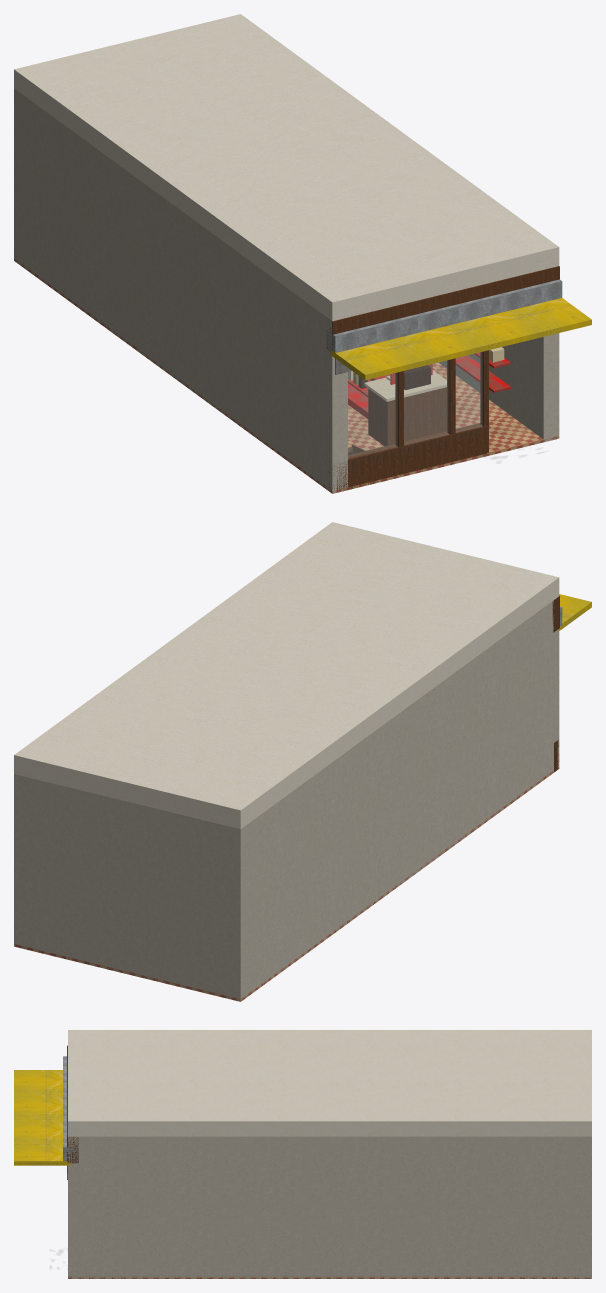
The model's file is shop_bodega.gltf.
3 renders of one model, top to bottom at view 1: azimuth 30°, elevation 25°; view 2: azimuth 150°, elevation 25°; view 3: azimuth 270°, elevation 25°, orthographic. The views are drawn at different scales.
Visible parts, largest first — view 1: F01_OWN_SHOP_BODEGA_retail_bod_plaster-col, F01_OWN_SHOP_BODEGA_retail_bod_plaster_stained-col, F01_OWN_SHOP_BODEGA_retail_bod_wood_dark-col, F01_OWN_SHOP_BODEGA_retail_bod_glassish-col, F01_OWN_SHOP_BODEGA_retail_bod_awning_vinyl-col, F01_OWN_SHOP_BODEGA_retail_bod_linoleum-col, F01_OWN_SHOP_BODEGA_retail_bod_metal-col, F01_OWN_SHOP_BODEGA_retail_bod_safety_orange-col, F01_OWN_SHOP_BODEGA_retail_bod_countertop-col, F01_OWN_SHOP_BODEGA_retail_bod_bakelite-col; view 2: F01_OWN_SHOP_BODEGA_retail_bod_plaster_stained-col, F01_OWN_SHOP_BODEGA_retail_bod_plaster-col, F01_OWN_SHOP_BODEGA_retail_bod_linoleum-col, F01_OWN_SHOP_BODEGA_retail_bod_awning_vinyl-col; view 3: F01_OWN_SHOP_BODEGA_retail_bod_plaster_stained-col, F01_OWN_SHOP_BODEGA_retail_bod_plaster-col, F01_OWN_SHOP_BODEGA_retail_bod_awning_vinyl-col, F01_OWN_SHOP_BODEGA_retail_bod_linoleum-col, F01_OWN_SHOP_BODEGA_retail_bod_metal-col, F01_OWN_SHOP_BODEGA_retail_bod_wood_dark-col.
Boxes of the visible parts, x1,y1,x2,y2 form: F01_OWN_SHOP_BODEGA_retail_bod_plaster-col: (14, 14, 559, 321); F01_OWN_SHOP_BODEGA_retail_bod_plaster_stained-col: (14, 88, 559, 493); F01_OWN_SHOP_BODEGA_retail_bod_wood_dark-col: (327, 266, 559, 491); F01_OWN_SHOP_BODEGA_retail_bod_glassish-col: (348, 352, 482, 458); F01_OWN_SHOP_BODEGA_retail_bod_awning_vinyl-col: (331, 298, 591, 380); F01_OWN_SHOP_BODEGA_retail_bod_linoleum-col: (14, 258, 559, 493); F01_OWN_SHOP_BODEGA_retail_bod_metal-col: (326, 279, 562, 352); F01_OWN_SHOP_BODEGA_retail_bod_safety_orange-col: (348, 352, 510, 418); F01_OWN_SHOP_BODEGA_retail_bod_countertop-col: (364, 370, 446, 401); F01_OWN_SHOP_BODEGA_retail_bod_bakelite-col: (358, 365, 430, 390); F01_OWN_SHOP_BODEGA_retail_bod_plaster_stained-col: (14, 601, 559, 1001); F01_OWN_SHOP_BODEGA_retail_bod_plaster-col: (14, 522, 559, 829); F01_OWN_SHOP_BODEGA_retail_bod_linoleum-col: (14, 766, 559, 1001); F01_OWN_SHOP_BODEGA_retail_bod_awning_vinyl-col: (559, 594, 591, 630); F01_OWN_SHOP_BODEGA_retail_bod_plaster_stained-col: (68, 1136, 591, 1278); F01_OWN_SHOP_BODEGA_retail_bod_plaster-col: (68, 1030, 591, 1136); F01_OWN_SHOP_BODEGA_retail_bod_awning_vinyl-col: (14, 1070, 70, 1165); F01_OWN_SHOP_BODEGA_retail_bod_linoleum-col: (68, 1276, 591, 1278); F01_OWN_SHOP_BODEGA_retail_bod_metal-col: (63, 1056, 77, 1162); F01_OWN_SHOP_BODEGA_retail_bod_wood_dark-col: (67, 1045, 78, 1163).
Size of what is drawn, in the model's own units: 4.4 by 3.55 by 11.8.
20 materials, 19 textured.
